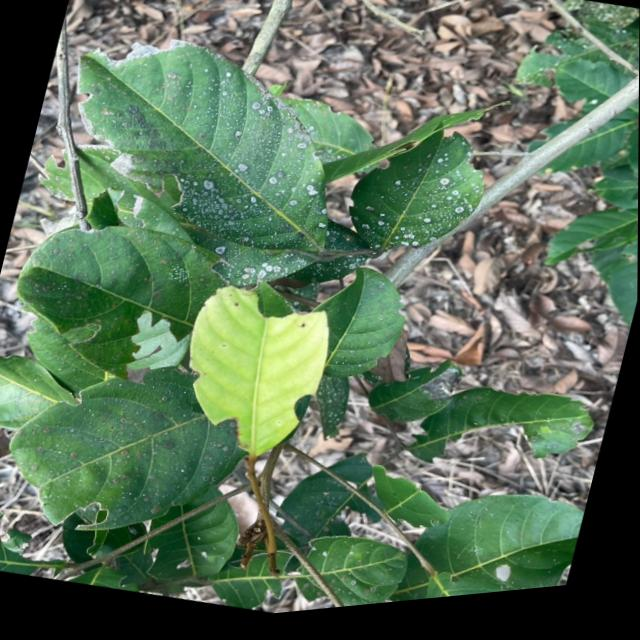Algal Leaf Spot: (79, 33, 507, 332)
